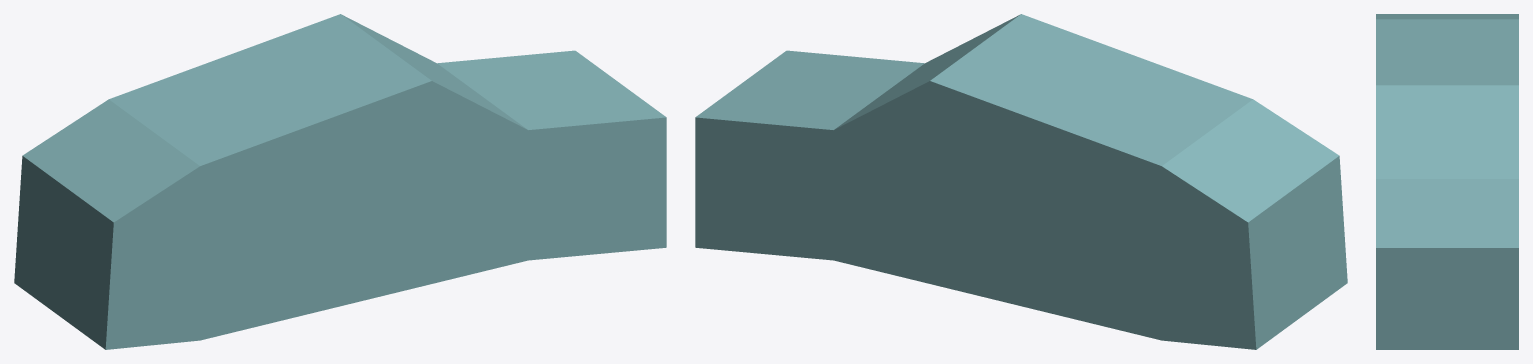
Rendered from Used cars.fbx.
3 renders of one model, left to right at view 1: azimuth 30°, elevation 25°; view 2: azimuth 150°, elevation 25°; view 3: azimuth 270°, elevation 25°, orthographic. The views are drawn at different scales.
Parts seen in each view (by area): view 1: Used cars; view 2: Used cars; view 3: Used cars.
Boxes of the visible parts, x1,y1,x2,y2 form: Used cars: (14,14,666,349); Used cars: (695,14,1347,349); Used cars: (1376,14,1518,349).
Bounding box in the file's own units: 244 × 93.13 × 68.85.
